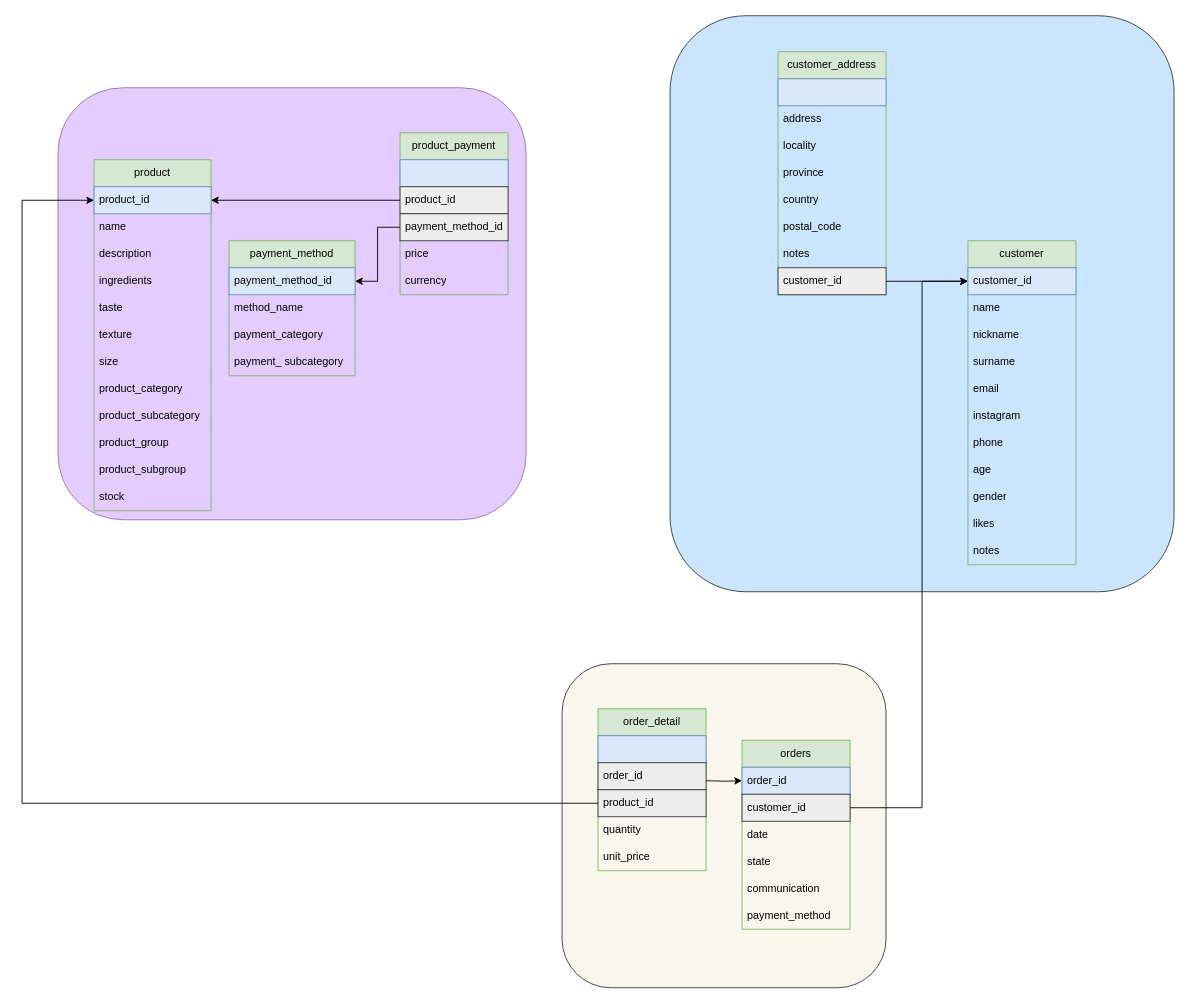
The diagram is 1190 pixels wide and 1004 high, and some of its shapes have lost their labels. The shapes that lost their labels are listed below. From the top down, each one's centre as x and y in pixels, then its label:
[831,92]: address_id
[453,173]: product_payment_id
[651,749]: order_detail_id
